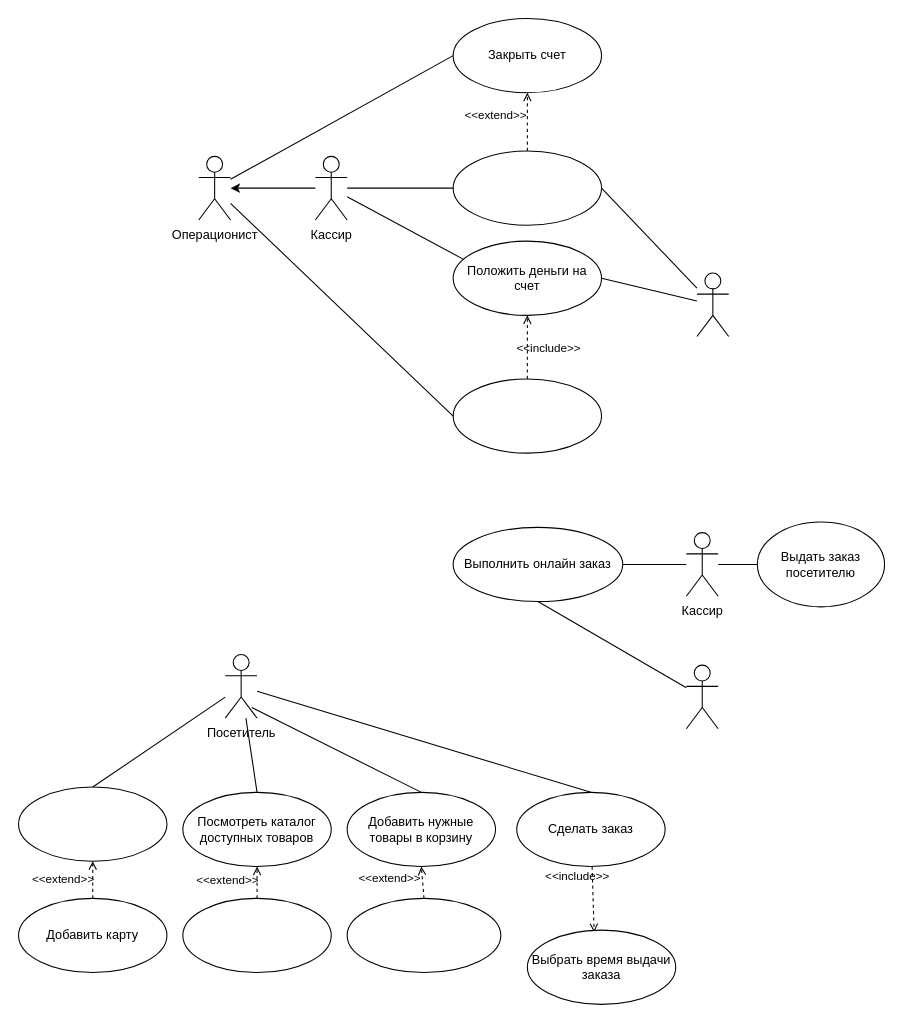
The diagram is 903 pixels wide and 1023 high, and some of its shapes have lost their labels. Each missing label, with the centre of its shape:
"Бариста" belongs at (x=701, y=696).
"Войти в систему" belongs at (x=92, y=823).
"Добавить дополнительные товары" belongs at (x=423, y=935).
"Клиент" belongs at (x=712, y=304).
"Открыть счет" belongs at (x=527, y=415).
"Посмотреть доступные акции и предложения" belongs at (x=256, y=935).
"Снять деньги со счета" belongs at (x=527, y=187).
